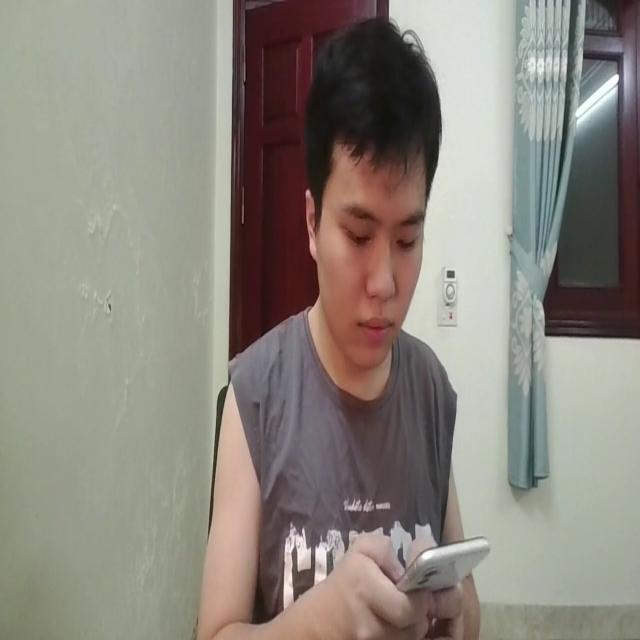phone: (392, 527, 491, 603)
student: (206, 24, 487, 640)
